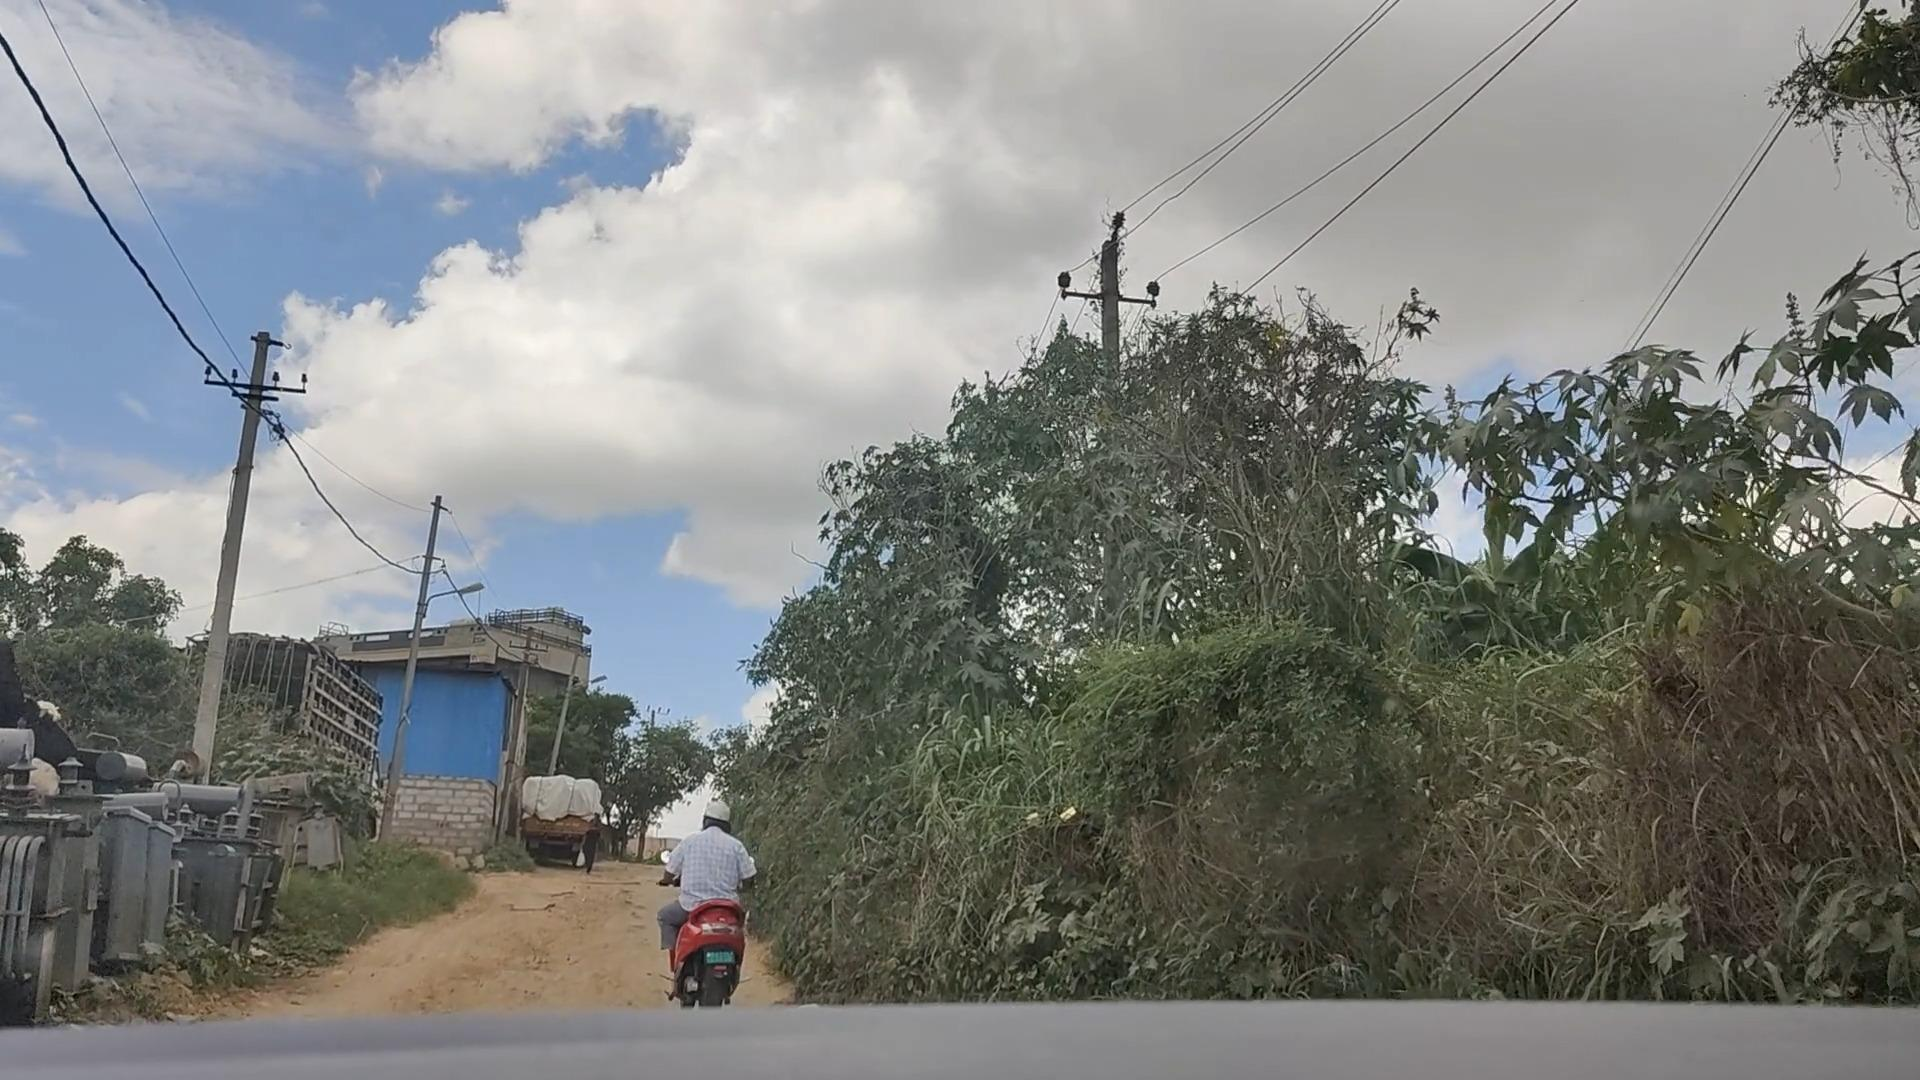HMV: (513, 767, 613, 886)
UnsurfacedRoad: (376, 890, 662, 1015)
